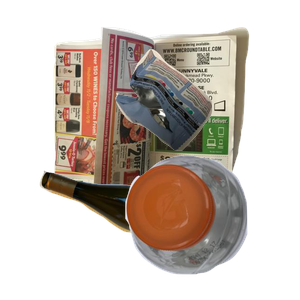glass: (37, 168, 242, 300)
paper: (51, 24, 291, 204)
plastic: (123, 152, 300, 300)
trash: (113, 46, 300, 189)
